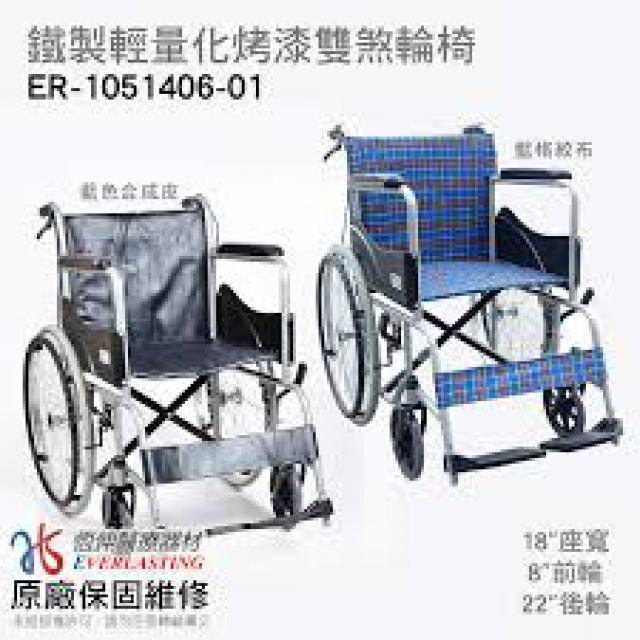wheelchair: (310, 111, 634, 492), (6, 196, 338, 546)
